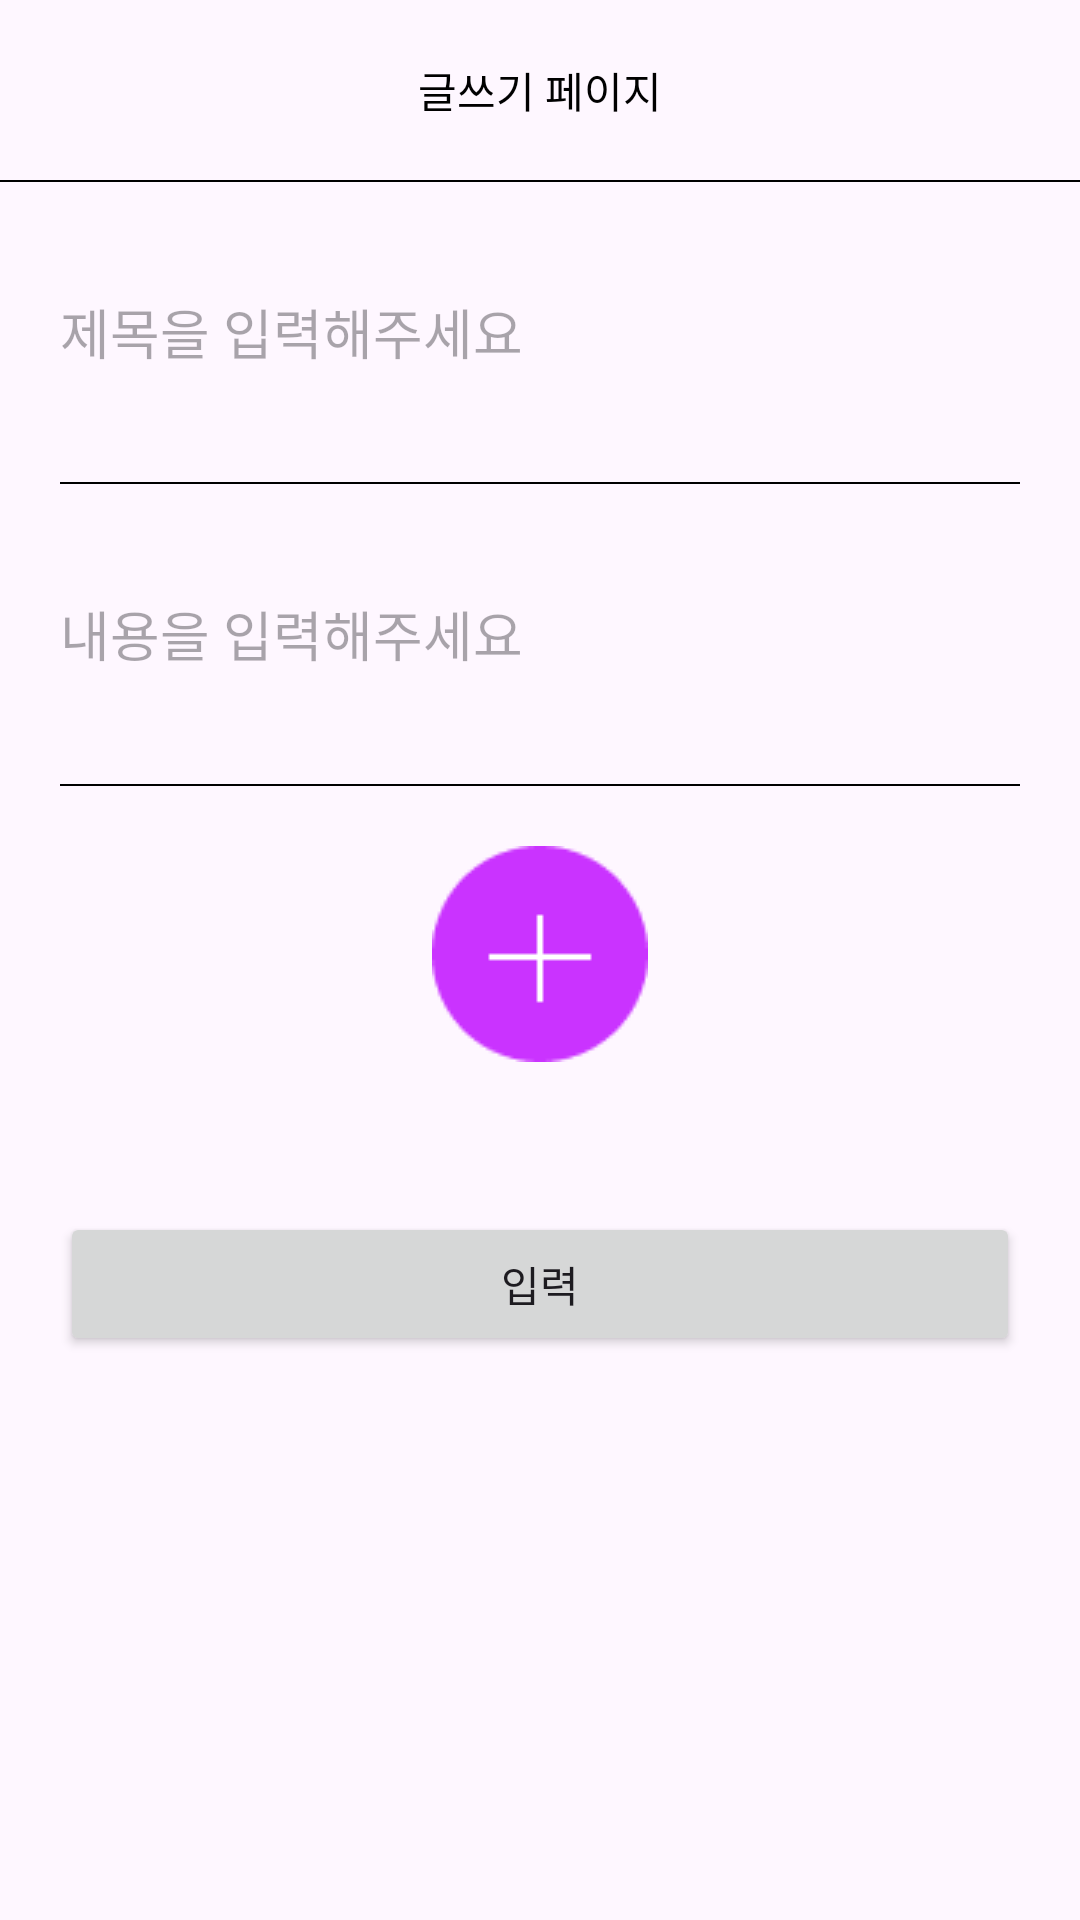

Named icons in this screenshot (1080px×1920px) and their bounding boxes, (x1=x1, y1=y1, x2=x2, y2=y2):
plusbtn: (x1=432, y1=846, x2=648, y2=1062)
